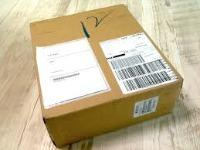undamaged: (29, 3, 183, 148)
